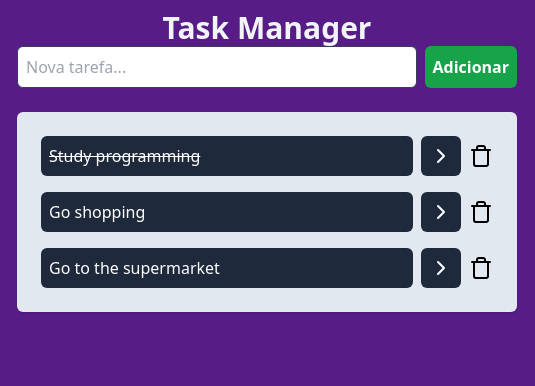
Fluxo Principal do Gerenciador de Tarefas › Deve adicionar uma nova tarefa à lista
# Localiza o input e digita o texto.
Type "Revisar Àrvore binária" into the field with placeholder "Nova tarefa..." at (217, 67), box [17,46,417,88]
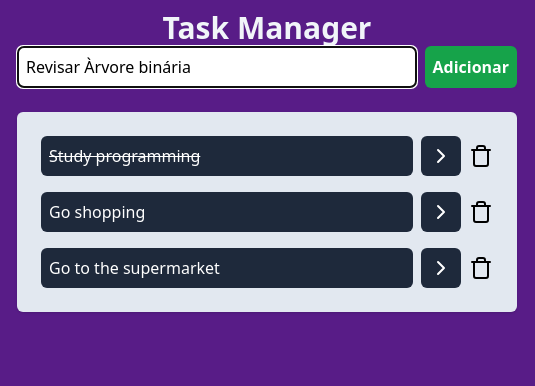
# Localiza o botão que contém o texto "Adicionar" e clica.
Click the button "Adicionar" at (472, 67), box [425,46,518,88]
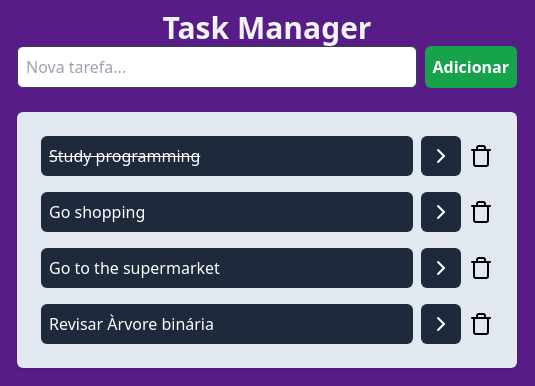
Result: the button "Revisar Àrvore binária" is shown at [41,304,413,344]
